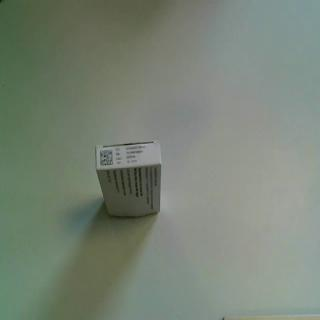oxycontin5mg: (95, 138, 163, 221)
